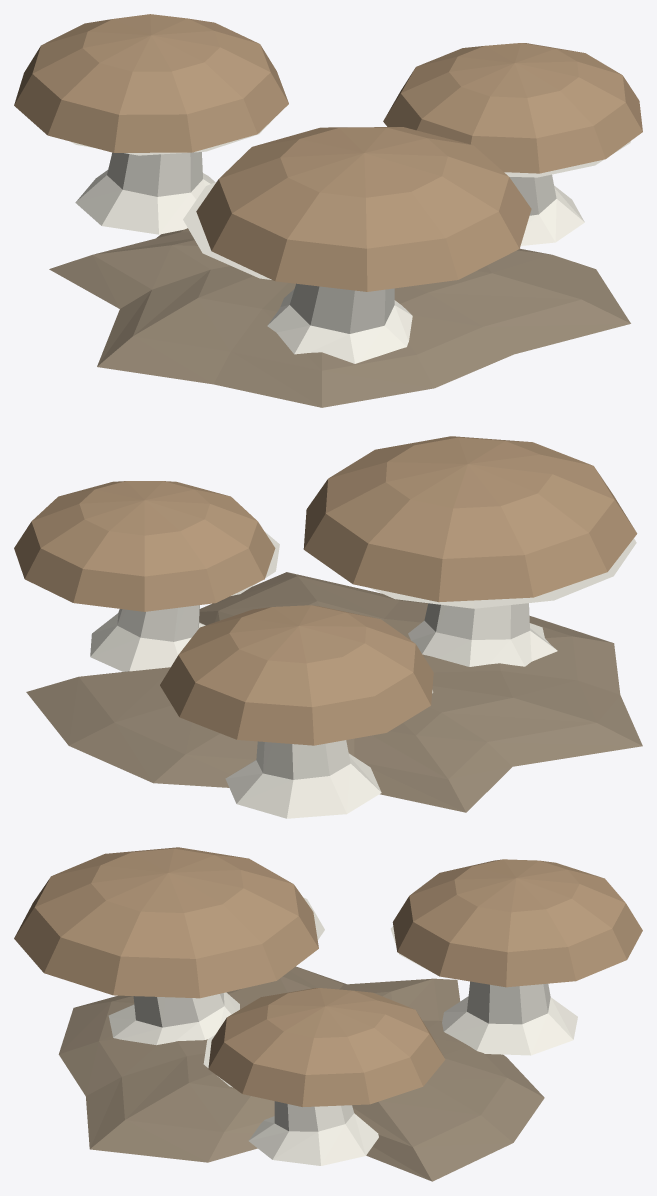
File: dense-temperate-forest-flora-cep-group-e2febd77__28405.glb
3 renders of one model, top to bottom at view 1: azimuth 30°, elevation 25°; view 2: azimuth 150°, elevation 25°; view 3: azimuth 270°, elevation 25°, orthographic. The views are drawn at different scales.
Visible parts, largest first — view 1: cep-group; view 2: cep-group; view 3: cep-group.
Part boxes in pixels (left/top/right/bottom): cep-group: left=14, top=14, right=642, bottom=407; cep-group: left=14, top=436, right=642, bottom=818; cep-group: left=14, top=847, right=642, bottom=1181.
Size of the model in its own units: 0.4834 by 0.1571 by 0.5065.
